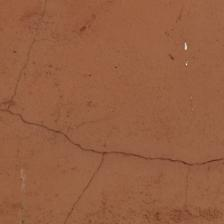Crack: (1, 31, 220, 75), (13, 9, 81, 111), (98, 12, 125, 97)
